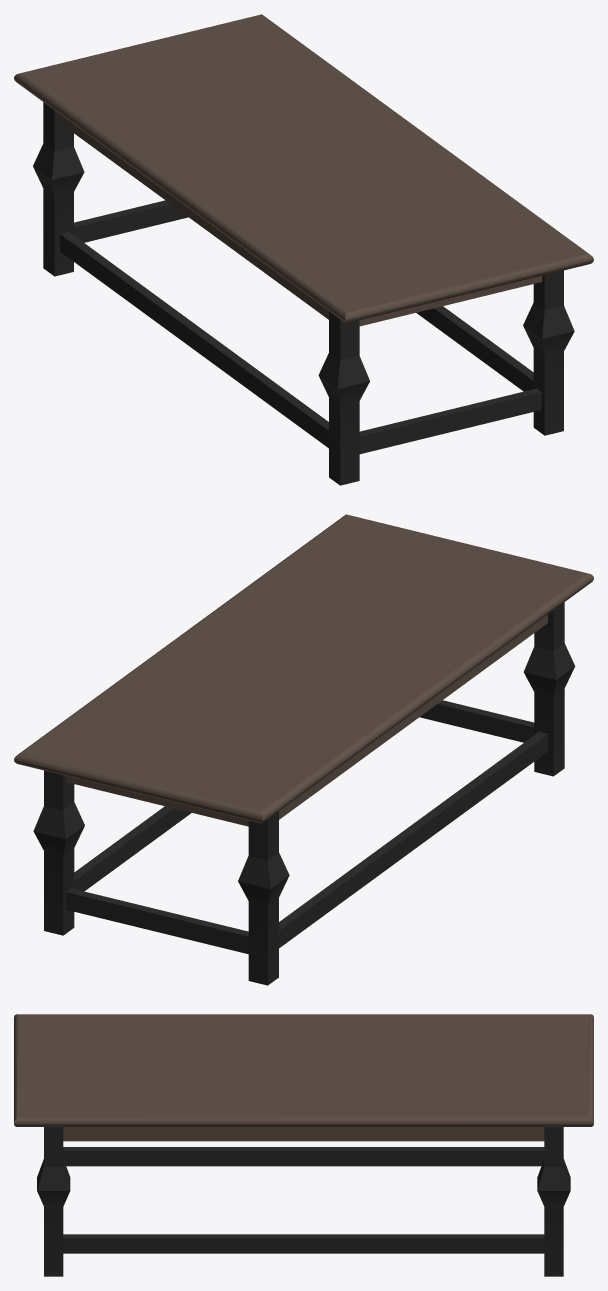
The model's file is GrandeTable_63.fbx.
The picture shows the model from 3 angles, top to bottom: view 1: azimuth 30°, elevation 25°; view 2: azimuth 150°, elevation 25°; view 3: azimuth 270°, elevation 25°; orthographic projection. The views are drawn at different scales.
Visible parts, largest first — view 1: pCube97, pCube99, polySurface27, polySurface24, polySurface26, pCube101, pCube98, pCube100; view 2: pCube97, pCube99, polySurface26, polySurface25, polySurface27, pCube100, pCube98, pCube101; view 3: pCube97, pCube98, pCube99, polySurface25, polySurface24.
Part boxes in pixels (left/top/right/bottom): pCube97: left=14, top=14, right=593, bottom=326; pCube99: left=60, top=232, right=328, bottom=448; polySurface27: left=318, top=311, right=369, bottom=485; polySurface24: left=523, top=270, right=574, bottom=435; polySurface26: left=33, top=102, right=84, bottom=276; pCube101: left=359, top=388, right=541, bottom=454; pCube98: left=416, top=306, right=533, bottom=391; pCube100: left=74, top=200, right=188, bottom=242; pCube97: left=14, top=514, right=593, bottom=826; pCube99: left=279, top=731, right=547, bottom=948; polySurface26: left=238, top=811, right=289, bottom=985; polySurface25: left=33, top=770, right=84, bottom=935; polySurface27: left=523, top=602, right=575, bottom=776; pCube100: left=66, top=888, right=248, bottom=954; pCube98: left=74, top=806, right=191, bottom=891; pCube101: left=420, top=700, right=534, bottom=742; pCube97: left=14, top=1014, right=593, bottom=1141; pCube98: left=63, top=1234, right=544, bottom=1253; pCube99: left=63, top=1147, right=544, bottom=1166; polySurface25: left=537, top=1127, right=570, bottom=1276; polySurface24: left=37, top=1127, right=70, bottom=1276.
Bounding box in the file's own units: 56.23 × 40.23 × 130.
